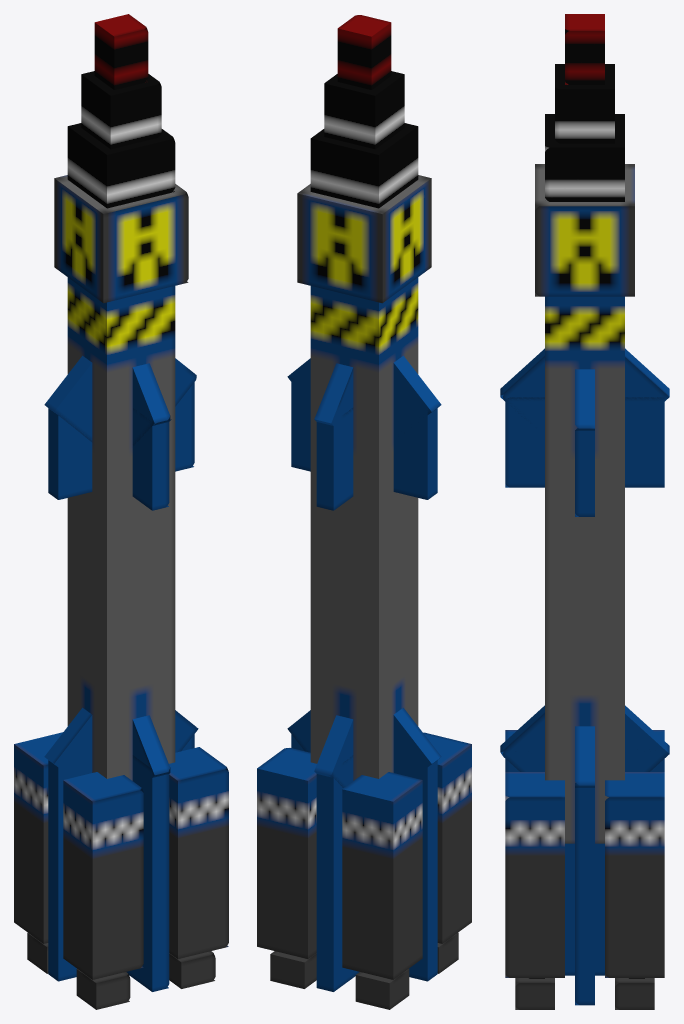
Rendered from missile_nuclear.obj.
3 renders of one model, left to right at view 1: azimuth 30°, elevation 25°; view 2: azimuth 150°, elevation 25°; view 3: azimuth 270°, elevation 25°, orthographic.
Visible parts, largest first — view 1: MAIN_MODULE, MOTOR_MODULE_4, TOP, MOTOR_MODULE_2, MOTOR_MODULE_3, WARHEAD_1, WING_1B, WARHEAD_2, WING_4B, WING_2B, WARHEAD_3, WING_3A (+7 smaller); view 2: MAIN_MODULE, MOTOR_MODULE_3, TOP, MOTOR_MODULE_1, MOTOR_MODULE_4, WARHEAD_1, WING_1B, WING_4B, WARHEAD_2, WING_2B, WARHEAD_3, WING_3A (+7 smaller); view 3: MAIN_MODULE, MOTOR_MODULE_2, MOTOR_MODULE_1, TOP, WING_3A, WARHEAD_1, WING_2B, WARHEAD_2, WING_1A, WING_3B, WING_1B, WARHEAD_3 (+5 smaller).
Boxes of the visible parts, x1,y1,x2,y2 form: MAIN_MODULE: [67, 277, 175, 780]; MOTOR_MODULE_4: [63, 772, 143, 979]; TOP: [54, 175, 188, 303]; MOTOR_MODULE_2: [169, 747, 228, 958]; MOTOR_MODULE_3: [14, 732, 63, 943]; WARHEAD_1: [67, 123, 175, 208]; WING_1B: [126, 755, 169, 991]; WARHEAD_2: [81, 71, 161, 149]; WING_4B: [48, 382, 194, 499]; WING_2B: [48, 734, 194, 981]; WARHEAD_3: [94, 14, 148, 89]; WING_3A: [132, 408, 169, 510]; MAIN_MODULE: [310, 277, 418, 780]; MOTOR_MODULE_3: [342, 772, 422, 979]; TOP: [297, 175, 431, 303]; MOTOR_MODULE_1: [257, 748, 316, 958]; MOTOR_MODULE_4: [423, 732, 471, 943]; WARHEAD_1: [310, 123, 418, 208]; WING_1B: [316, 755, 359, 991]; WING_4B: [291, 378, 437, 499]; WARHEAD_2: [324, 71, 404, 149]; WING_2B: [291, 726, 437, 981]; WARHEAD_3: [337, 15, 391, 89]; WING_3A: [316, 407, 353, 510]; MAIN_MODULE: [545, 296, 624, 843]; MOTOR_MODULE_2: [505, 772, 564, 977]; MOTOR_MODULE_1: [605, 772, 664, 977]; TOP: [535, 164, 634, 296]; WING_3A: [505, 397, 664, 487]; WARHEAD_1: [545, 114, 624, 201]; WING_2B: [575, 782, 594, 1005]; WARHEAD_2: [555, 64, 614, 143]; WING_1A: [500, 705, 669, 771]; WING_3B: [500, 348, 669, 425]; WING_1B: [505, 751, 664, 975]; WARHEAD_3: [565, 14, 604, 84].
Bounding box in the file's own units: 1.06 × 6.62 × 1.06.
